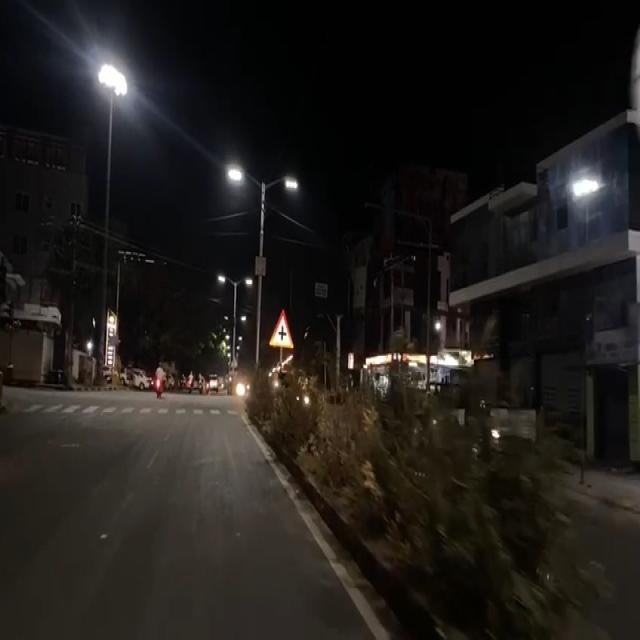bien_nguy_hiem: (269, 304, 294, 350)
